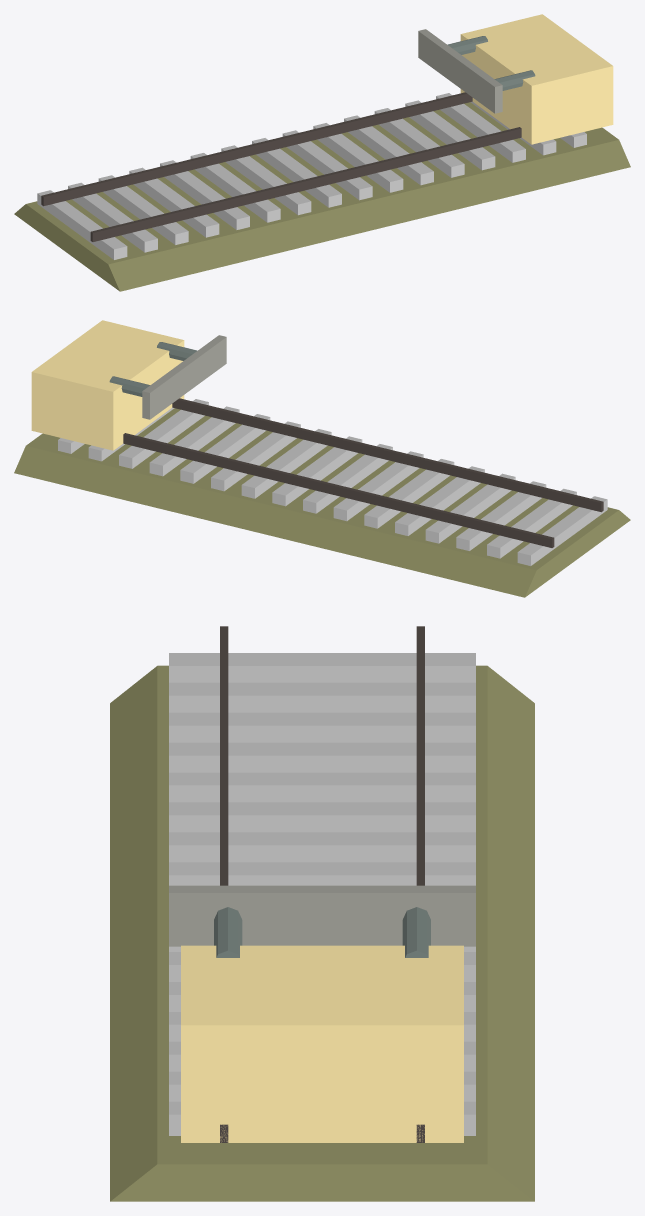
The model's file is SM_Via_Topera_v0_Hormigon_LOD0.fbx.
3 renders of one model, top to bottom at view 1: azimuth 30°, elevation 25°; view 2: azimuth 150°, elevation 25°; view 3: azimuth 270°, elevation 25°, orthographic. The views are drawn at different scales.
Visible parts, largest first — view 1: SM_via_trazado_v35_LOD0; view 2: SM_via_trazado_v35_LOD0; view 3: SM_via_trazado_v35_LOD0.
Part boxes in pixels (x1,y1,x2,y2): SM_via_trazado_v35_LOD0: (14,14,630,291); SM_via_trazado_v35_LOD0: (14,320,630,597); SM_via_trazado_v35_LOD0: (110,626,534,1201).
Size of the model in its own units: 10 by 1.85 by 3.6.
